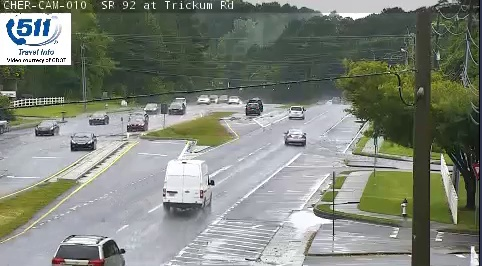car: (52, 237, 126, 266), (285, 130, 306, 145), (288, 106, 303, 119)
van: (164, 160, 212, 209)
